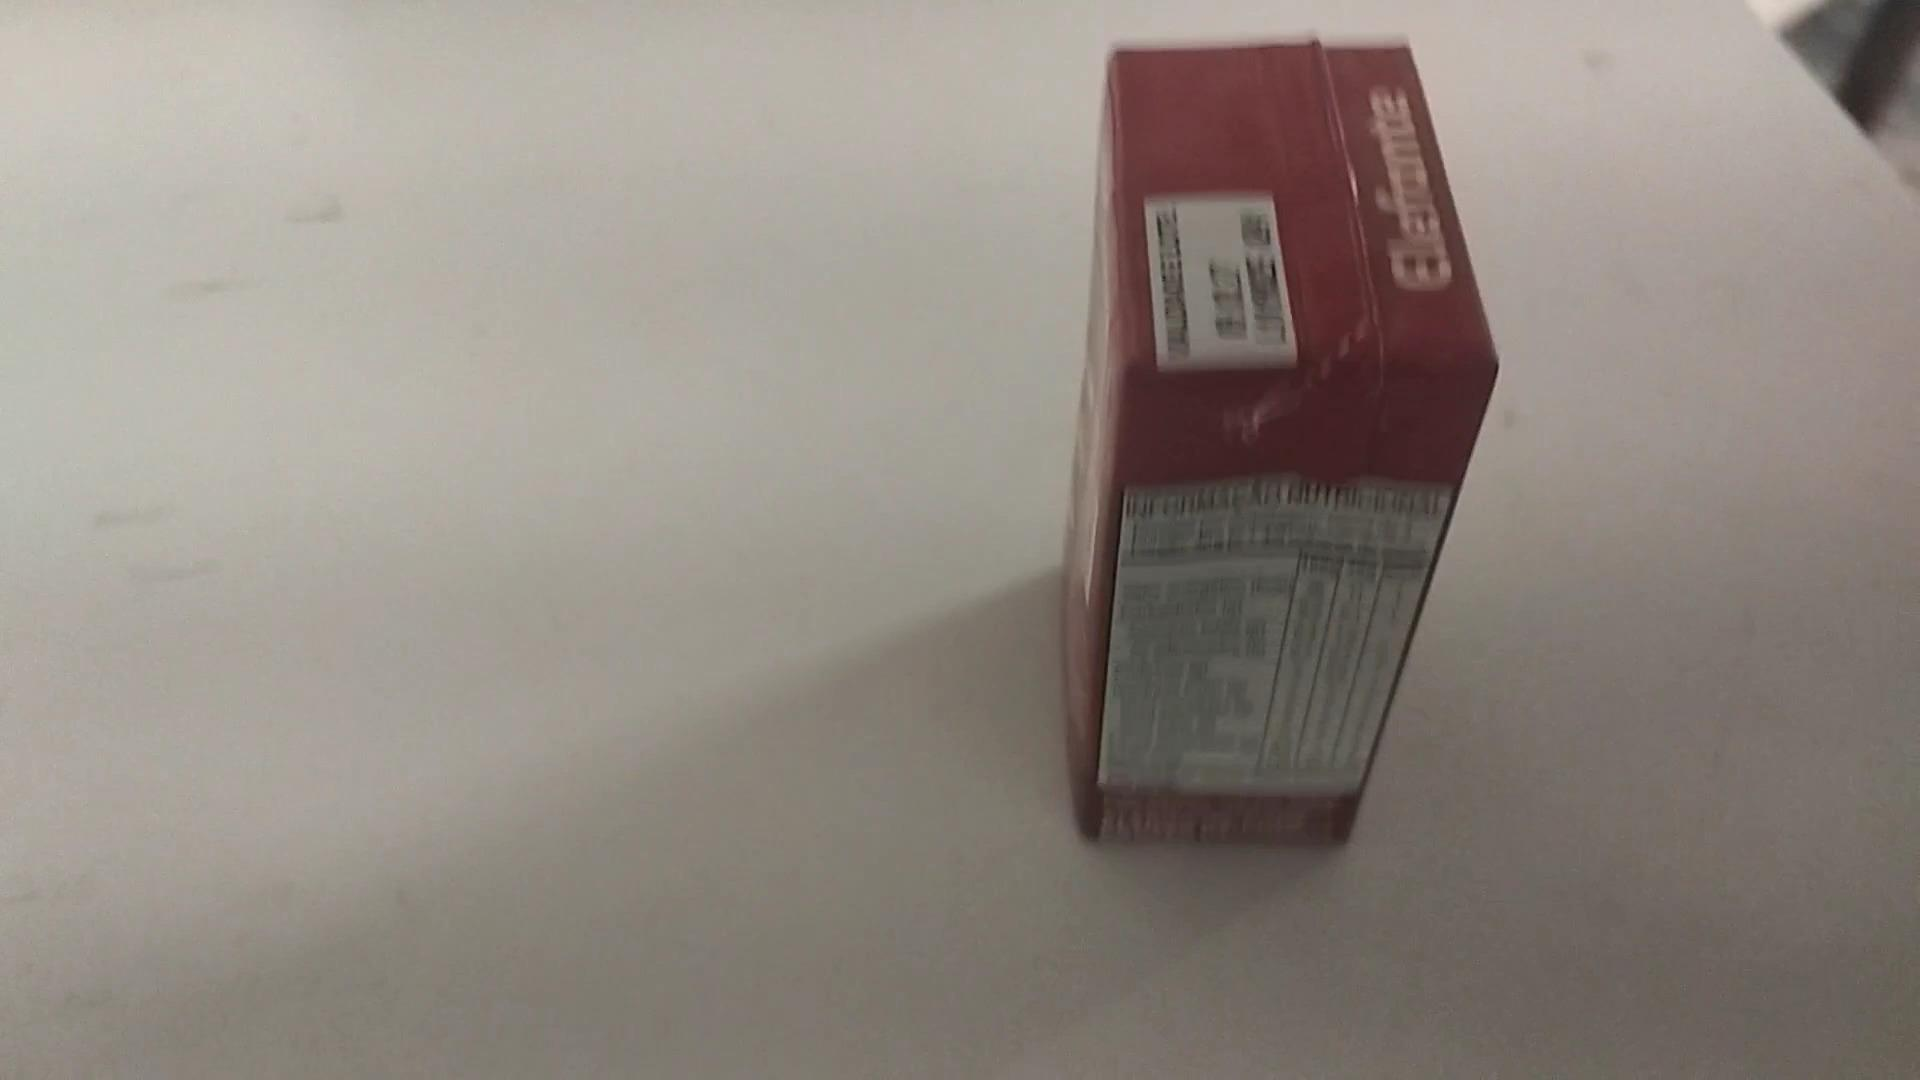tomate: (1039, 20, 1506, 866)
